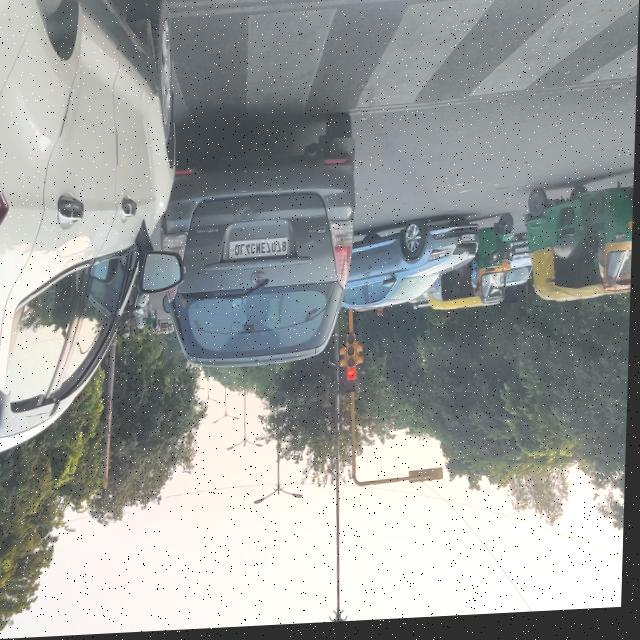plate: (228, 240, 290, 264), (462, 238, 479, 248), (517, 252, 531, 259)
